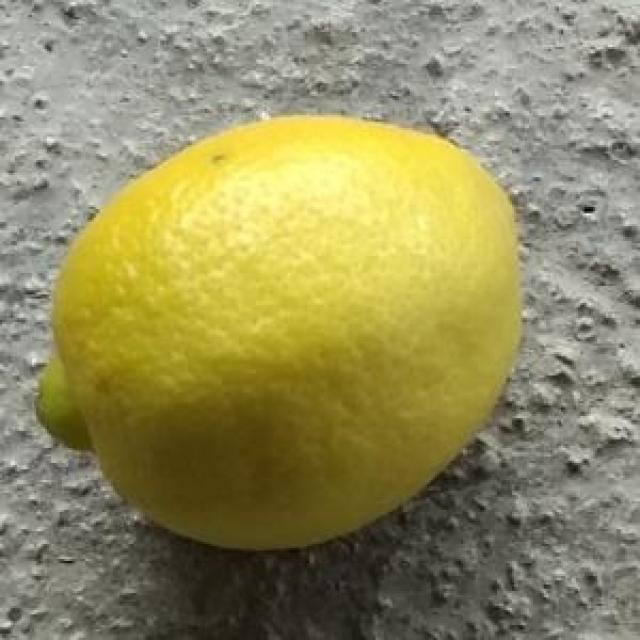lemon: (37, 110, 516, 558)
